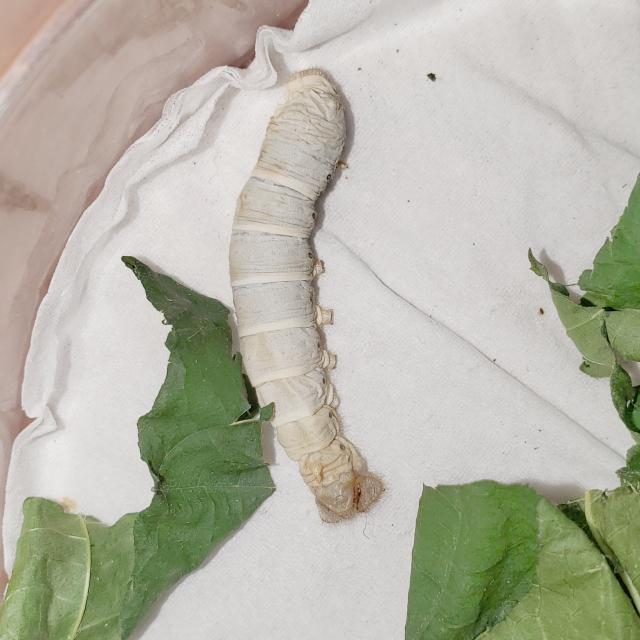Grasserie: (196, 56, 402, 531)
